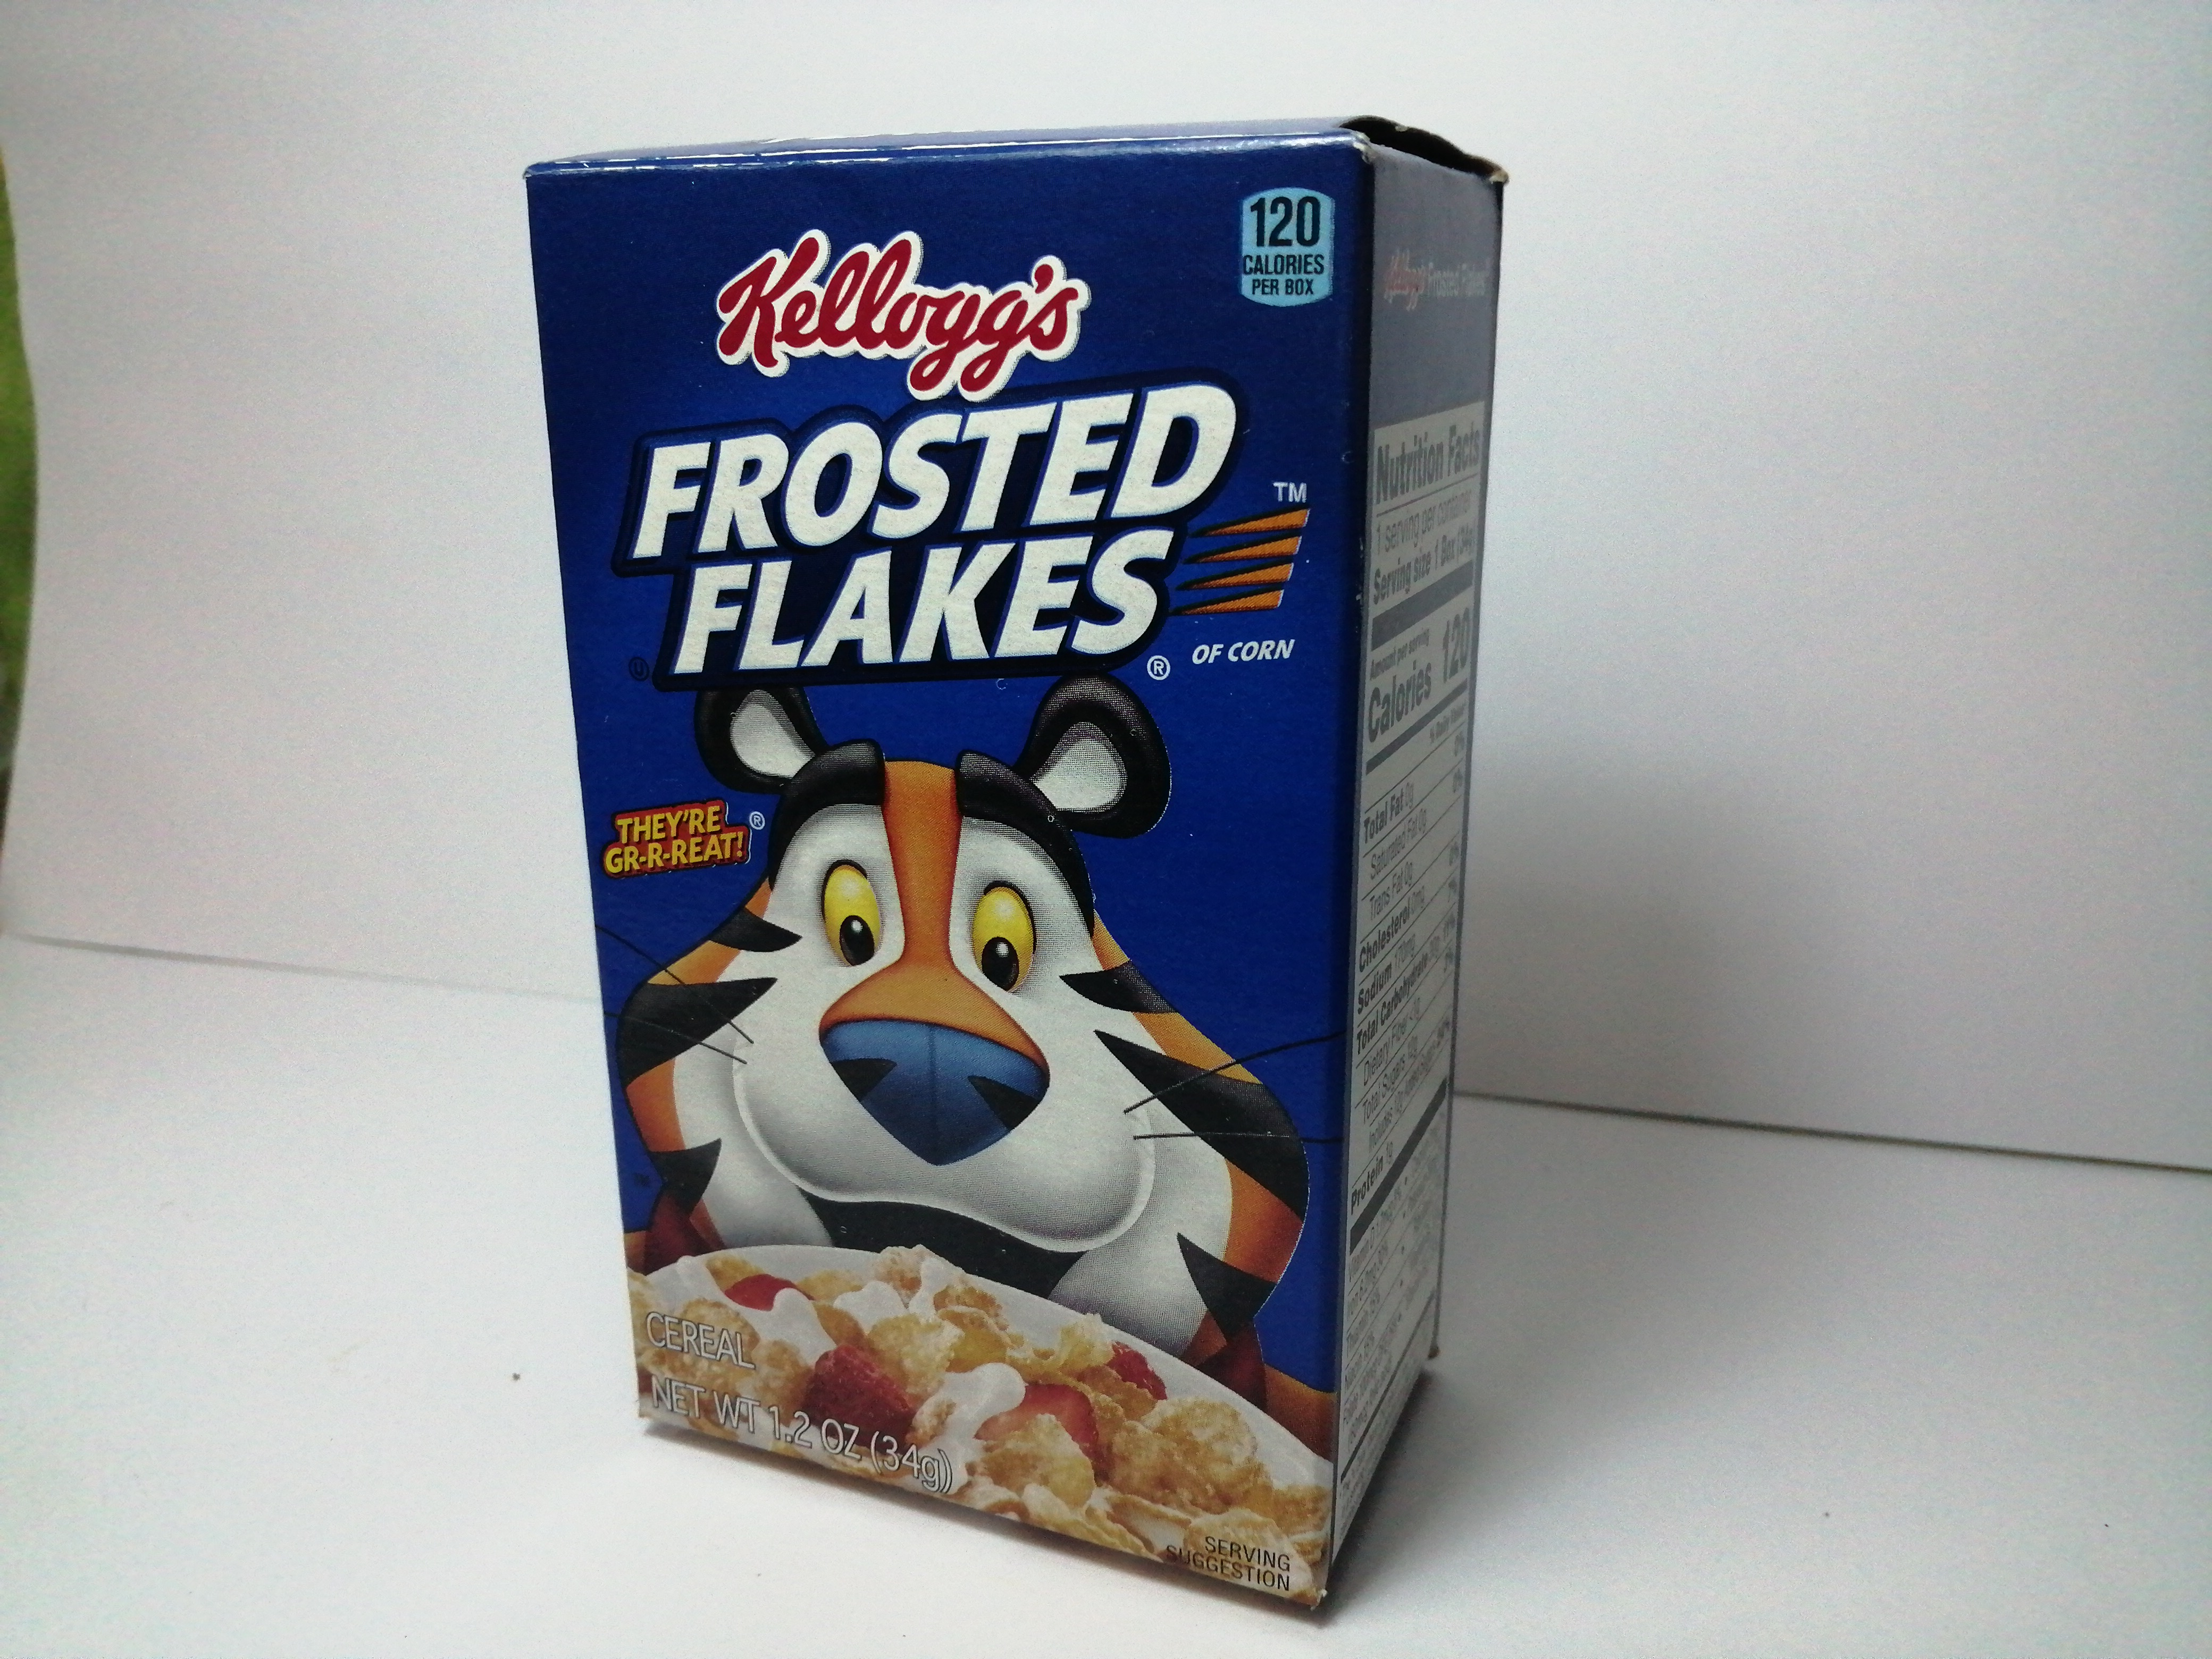cereal azucarado: (502, 87, 1602, 1628)
